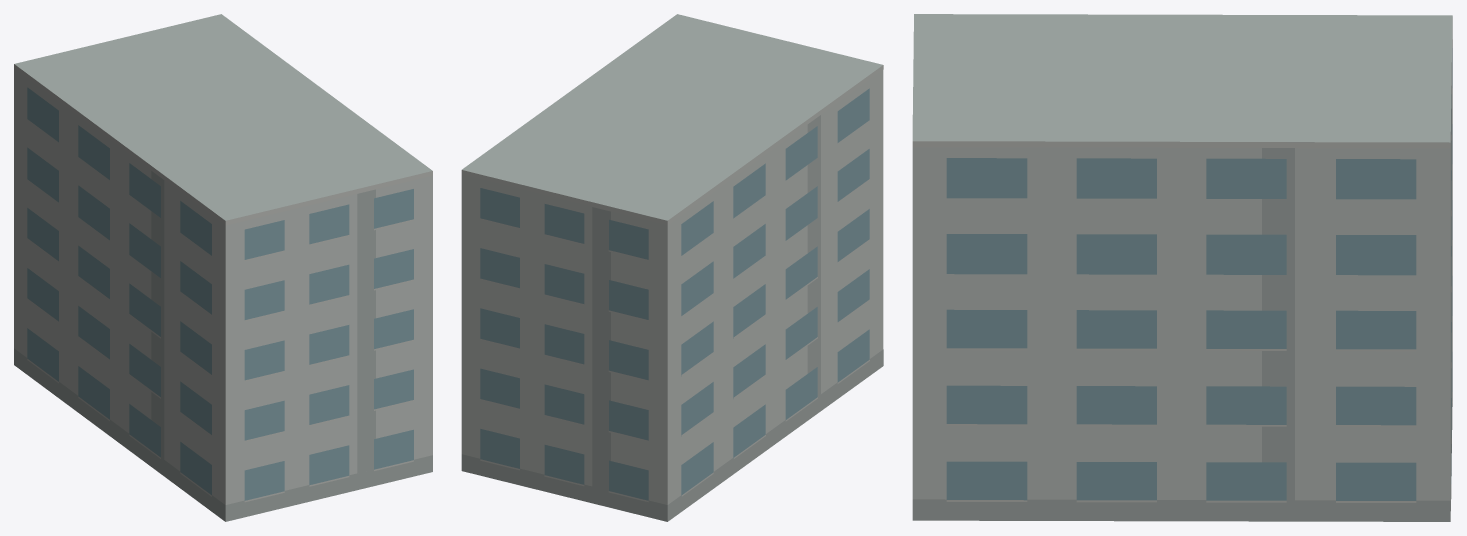
Rendered from residential-40608f1b-24e3-46a0-9c7f-631e04271e3c.glb.
The picture shows the model from 3 angles, left to right: view 1: azimuth 30°, elevation 25°; view 2: azimuth 150°, elevation 25°; view 3: azimuth 270°, elevation 25°; orthographic projection. The views are drawn at different scales.
Parts seen in each view (by area): view 1: residential-40608f1b-24e3-46a0-9c7f-631e04271e3c.tmp; view 2: residential-40608f1b-24e3-46a0-9c7f-631e04271e3c.tmp; view 3: residential-40608f1b-24e3-46a0-9c7f-631e04271e3c.tmp.
Part boxes in pixels (x1=…): residential-40608f1b-24e3-46a0-9c7f-631e04271e3c.tmp: x1=14, y1=14, x2=432, y2=521; residential-40608f1b-24e3-46a0-9c7f-631e04271e3c.tmp: x1=461, y1=14, x2=883, y2=521; residential-40608f1b-24e3-46a0-9c7f-631e04271e3c.tmp: x1=912, y1=14, x2=1452, y2=521.
Size of the model in its own units: 11.08 by 15.25 by 19.69.
